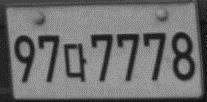7: (142, 31, 166, 81), (115, 32, 139, 81), (90, 32, 113, 82), (37, 34, 60, 83)
8: (170, 30, 196, 81)
9: (12, 33, 35, 83)
다: (62, 42, 87, 83)
